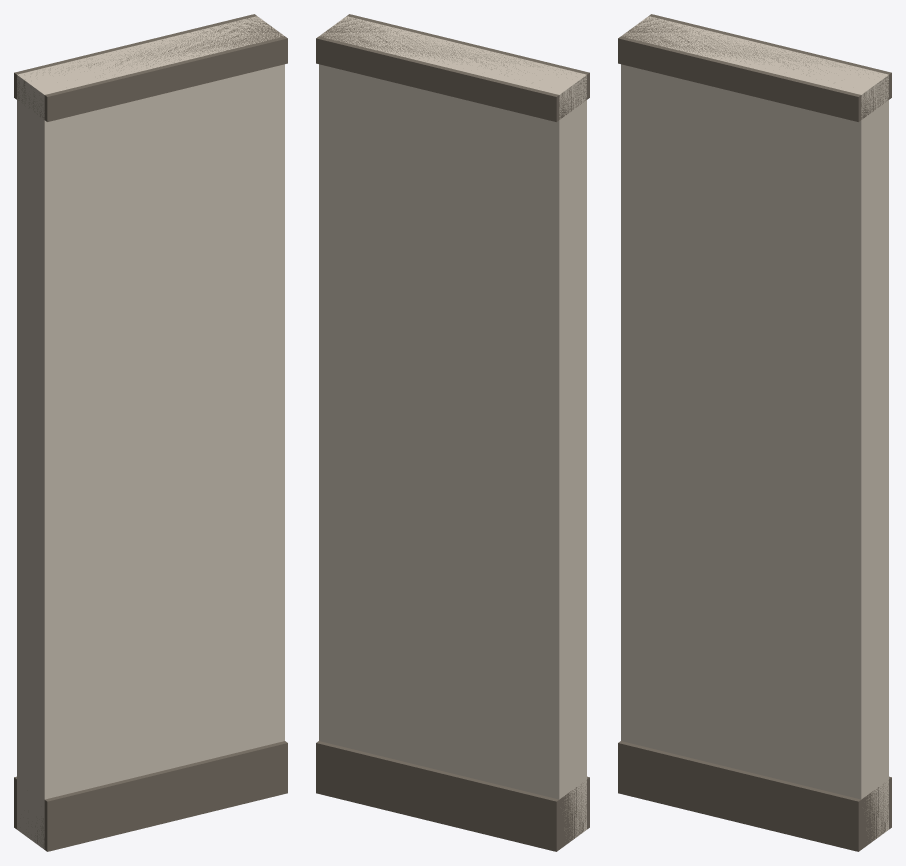
Rendered from wall_plaster_1m.glb.
The picture shows the model from 3 angles, left to right: view 1: azimuth 30°, elevation 25°; view 2: azimuth 150°, elevation 25°; view 3: azimuth 330°, elevation 25°; orthographic projection.
Visible parts, largest first — view 1: wall_plaster_1m; view 2: wall_plaster_1m; view 3: wall_plaster_1m.
Boxes of the visible parts, left/top/right/bottom form: wall_plaster_1m: left=14, top=14, right=287, bottom=851; wall_plaster_1m: left=316, top=14, right=589, bottom=851; wall_plaster_1m: left=618, top=14, right=891, bottom=851.
Bounding box in the file's own units: 1 × 3 × 0.24.
